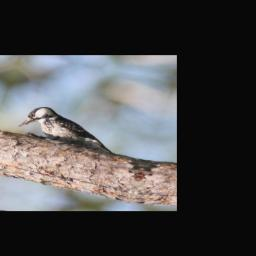Woodpecker: (13, 103, 132, 154)
